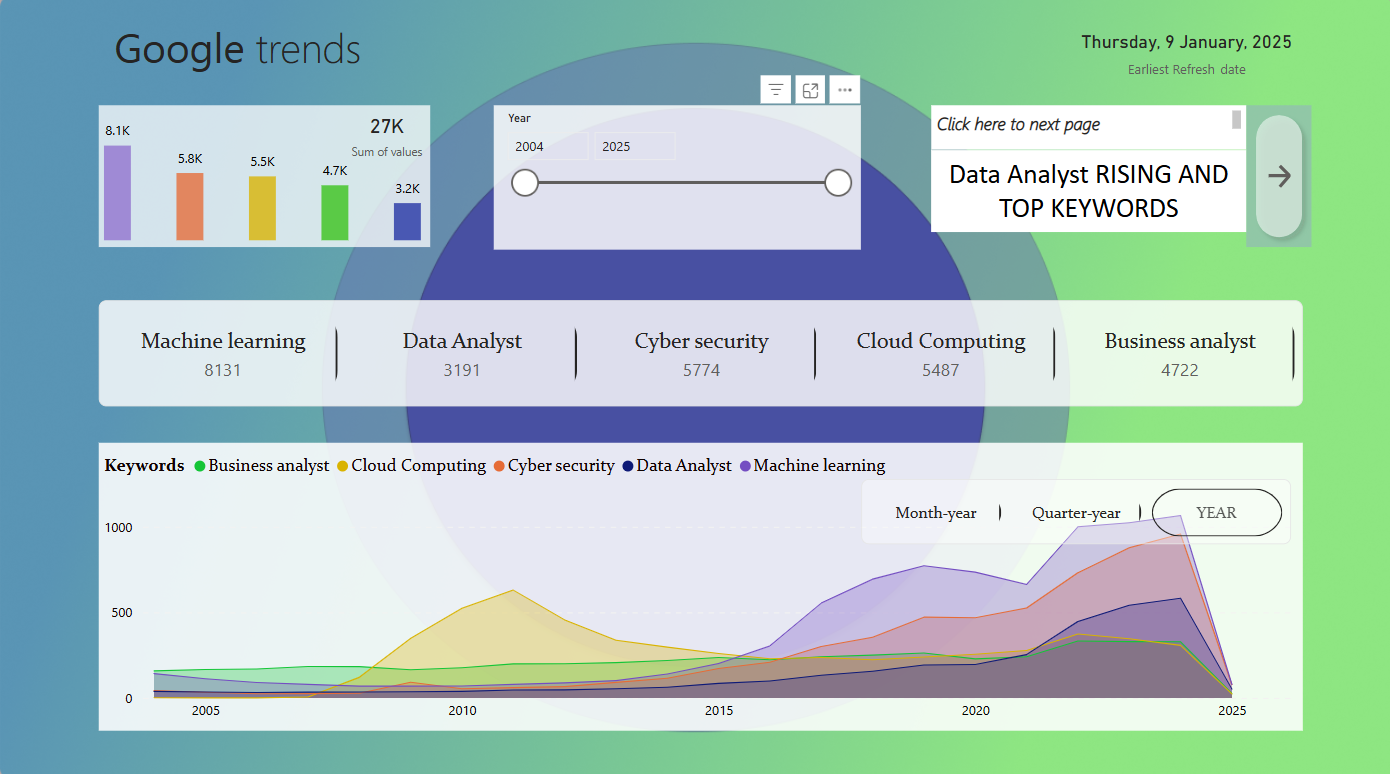

What the dashboard file says about the page in this screenshot:
{"tool":"powerbi","page":{"name":"Keywords by date","canvas":[1280,720],"ordinal":1},"visuals":[{"type":"areaChart","fields":{"Category":["By_date API.Year","By_date API.Keywords"],"Y":["Sum(By_date API.values)"],"Series":["By_date API.Keywords"]},"box":[90.6,407.5,1107.4,264.8],"z":0},{"type":"advancedSlicerVisual","fields":{"Values":["Dynamic Date .Dynamic Date "]},"box":[792.4,441.4,395.6,60.3],"z":1000},{"type":"advancedSlicerVisual","fields":{"Values":["By_date API.Keywords"]},"box":[90.5,277.5,1107.5,97.8],"z":2000},{"type":"columnChart","fields":{"Category":["By_date API.Keywords"],"Y":["By_date API.By_date_value"]},"box":[90.6,97.4,304.6,130.4],"z":3000},{"type":"card","fields":{"Values":["Sum(By_date API.values)"]},"box":[315.6,97.4,79.6,52.1],"z":4000},{"type":"slicer","fields":{"Values":["By_date API.Year"]},"box":[454.2,97.4,337.6,133.1],"z":5000},{"type":"actionButton","box":[1145.8,97.4,60.4,130.4],"z":6000},{"type":"textbox","box":[856.3,97.4,289.5,41.2],"z":7000},{"type":"textbox","box":[100.2,13.4,303.2,67.2],"z":8000},{"type":"card","fields":{"Values":["Min(Refresh_date.Refresh_date)"]},"box":[977,22,229.2,52.1],"z":9000},{"type":"shape","box":[856.3,138.6,289.5,75.5],"z":10000}]}

Visuals, with their boxes in screenshot pixels (x1, y1, x2, y2), scaled from the page's 1280x720 canvas onto the 1390x774 screenshot:
areaChart - By_date API.Year x By_date API.Keywords: x1=98, y1=438, x2=1301, y2=723
advancedSlicerVisual - Dynamic Date .Dynamic Date : x1=860, y1=475, x2=1290, y2=539
advancedSlicerVisual - By_date API.Keywords: x1=98, y1=298, x2=1301, y2=403
columnChart - By_date API.Keywords x By_date API.By_date_value: x1=98, y1=105, x2=429, y2=245
card - Sum(By_date API.values): x1=343, y1=105, x2=429, y2=161
slicer - By_date API.Year: x1=493, y1=105, x2=860, y2=248
actionButton: x1=1244, y1=105, x2=1310, y2=245
textbox: x1=930, y1=105, x2=1244, y2=149
textbox: x1=109, y1=14, x2=438, y2=87
card - Min(Refresh_date.Refresh_date): x1=1061, y1=24, x2=1310, y2=80
shape: x1=930, y1=149, x2=1244, y2=230
